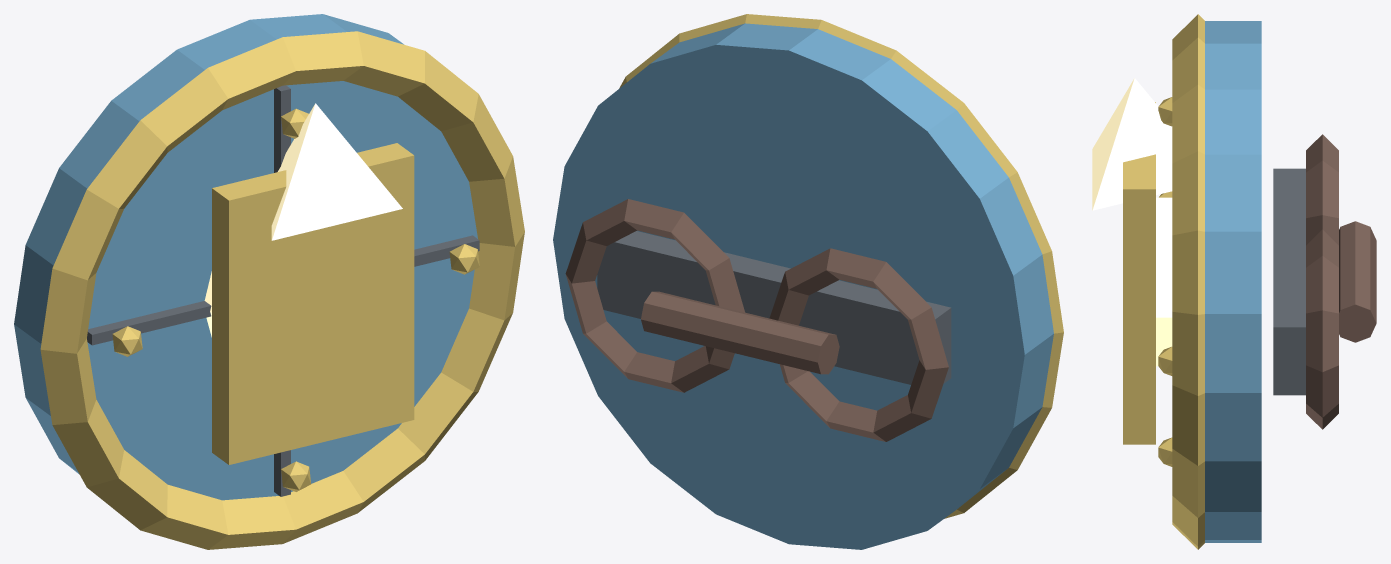
The model's file is colored_badge_shield.glb.
3 renders of one model, left to right at view 1: azimuth 30°, elevation 25°; view 2: azimuth 150°, elevation 25°; view 3: azimuth 270°, elevation 25°, orthographic. The views are drawn at different scales.
Visible parts, largest first — view 1: ShieldBody.008, IronRim.006, HeraldicBadge.001, BadgeCrown.001, PlankSeam_1.006, PlankSeam_0.006, Rivet_1.033, Rivet_2.011, Rivet_0.033; view 2: ShieldBody.008, BackReinforcement.008, BackStrap_-0.008, BackStrap_0.008, HandGrip.008, IronRim.006; view 3: ShieldBody.008, IronRim.006, HeraldicBadge.001, BackReinforcement.008, BadgeCrown.001, BackStrap_0.008, HandGrip.008, BackStrap_-0.008, CentralBoss.008.
Boxes of the visible parts, x1=… form: ShieldBody.008: x1=14, y1=14, x2=477, y2=500; IronRim.006: x1=40, y1=31, x2=524, y2=549; HeraldicBadge.001: x1=212, y1=143, x2=414, y2=464; BadgeCrown.001: x1=271, y1=103, x2=402, y2=240; PlankSeam_1.006: x1=87, y1=235, x2=479, y2=345; PlankSeam_0.006: x1=274, y1=85, x2=290, y2=496; Rivet_1.033: x1=449, y1=244, x2=479, y2=274; Rivet_2.011: x1=281, y1=461, x2=311, y2=491; Rivet_0.033: x1=112, y1=326, x2=142, y2=356; ShieldBody.008: x1=553, y1=23, x2=1053, y2=549; BackReinforcement.008: x1=597, y1=231, x2=951, y2=384; BackStrap_-0.008: x1=769, y1=248, x2=948, y2=441; BackStrap_0.008: x1=565, y1=199, x2=744, y2=392; HandGrip.008: x1=641, y1=291, x2=839, y2=374; IronRim.006: x1=619, y1=14, x2=1063, y2=518; ShieldBody.008: x1=1205, y1=21, x2=1261, y2=542; IronRim.006: x1=1172, y1=14, x2=1204, y2=549; HeraldicBadge.001: x1=1123, y1=102, x2=1155, y2=444; BackReinforcement.008: x1=1273, y1=168, x2=1305, y2=395; BadgeCrown.001: x1=1092, y1=78, x2=1172, y2=210; BackStrap_0.008: x1=1306, y1=229, x2=1338, y2=429; HandGrip.008: x1=1339, y1=221, x2=1376, y2=342; BackStrap_-0.008: x1=1306, y1=134, x2=1338, y2=245; CentralBoss.008: x1=1156, y1=197, x2=1172, y2=366.
Size of the model in its own units: 1.15 by 1.15 by 0.605.
